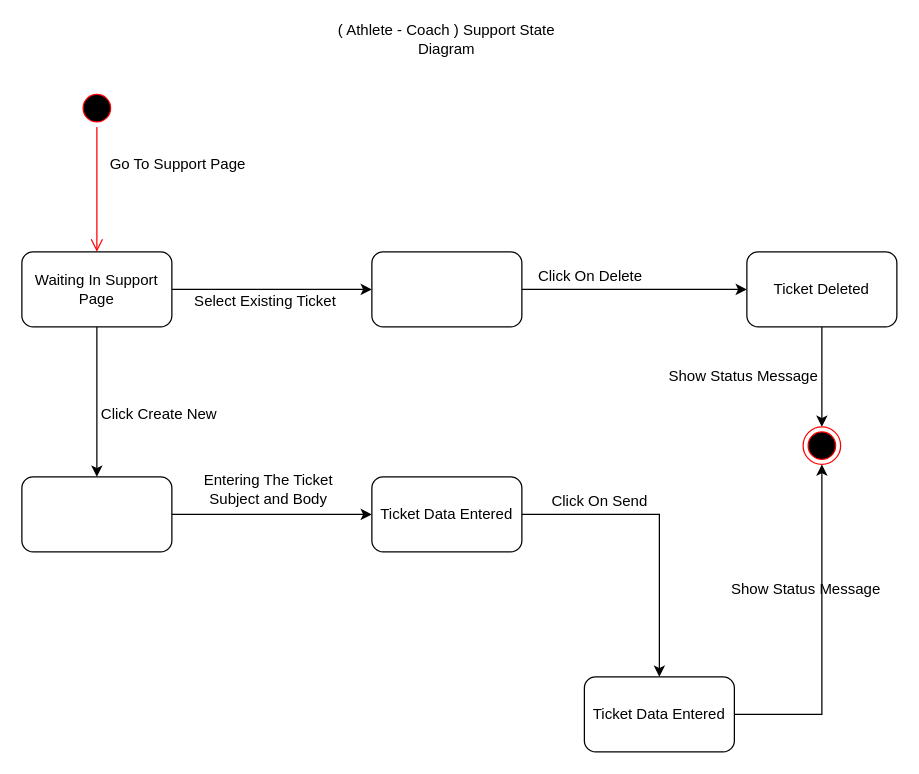
This 919x774 diagram has some shape labels left out. Each missing label, with the centre of its shape:
Creating New Ticket: the point at 96,514
Ticket Selected: the point at 446,289
